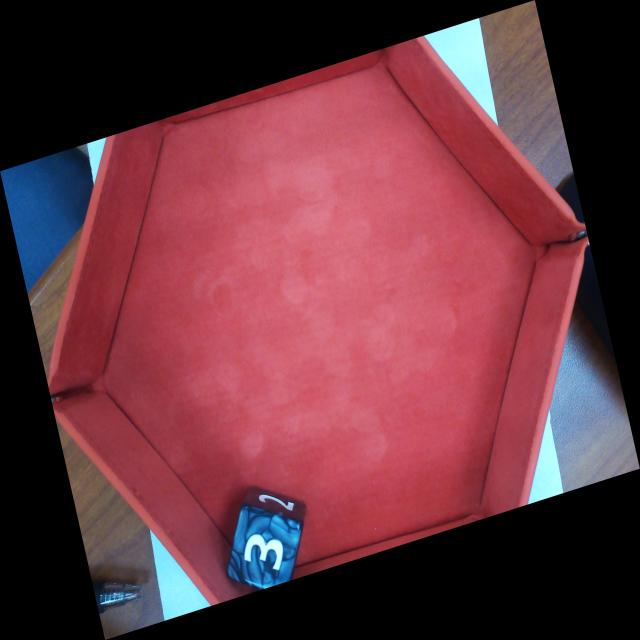dice: (229, 505, 300, 589)
